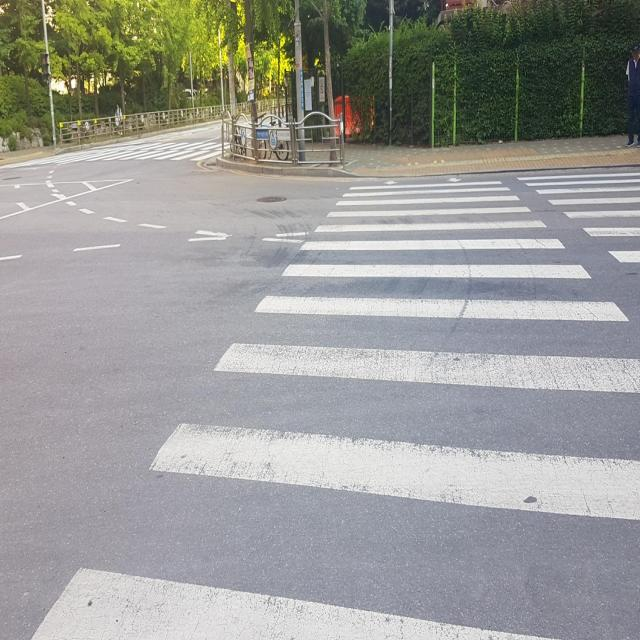횡단보도: (24, 169, 640, 640), (43, 136, 236, 168)
